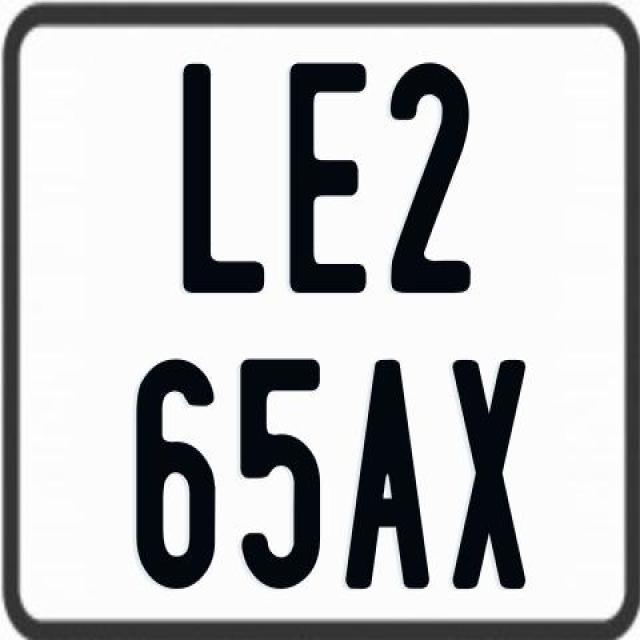2: (388, 58, 468, 292)
5: (238, 357, 324, 589)
6: (134, 357, 218, 589)
A: (341, 355, 431, 587)
E: (286, 59, 370, 296)
L: (182, 62, 266, 301)
X: (450, 355, 530, 587)
